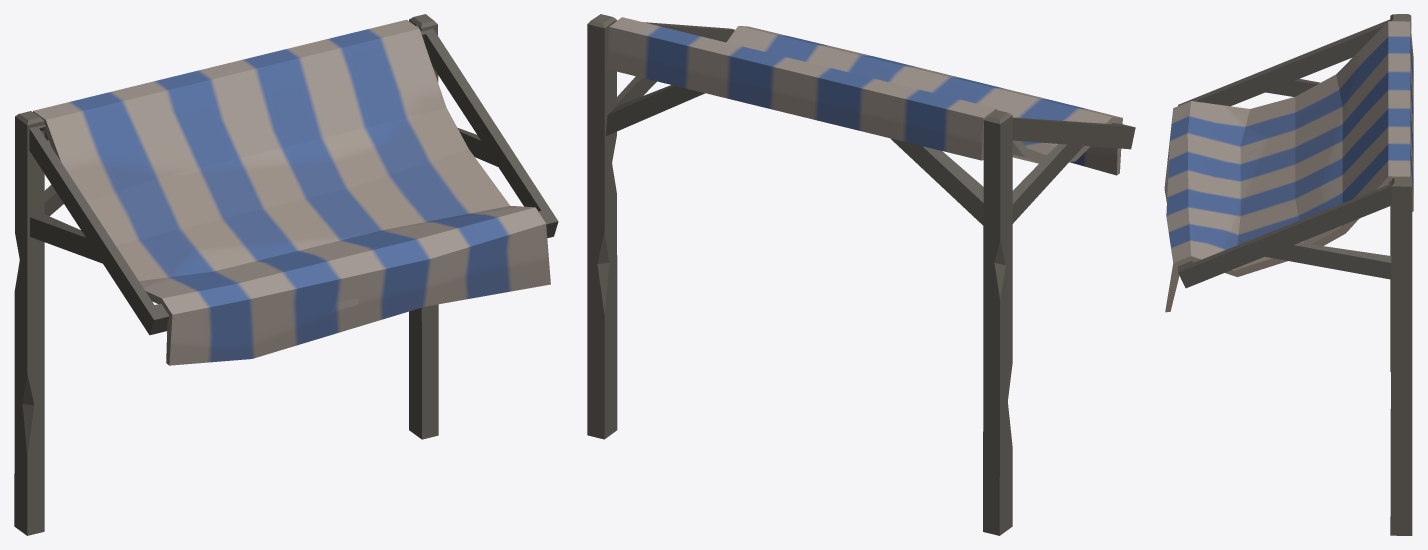
The model's file is SM_Bld_Village_ClothCover_Slope_01.fbx.
3 renders of one model, left to right at view 1: azimuth 30°, elevation 25°; view 2: azimuth 150°, elevation 25°; view 3: azimuth 270°, elevation 25°, orthographic. The views are drawn at different scales.
Visible parts, largest first — view 1: SM_Bld_Village_ClothCover_Slope_01; view 2: SM_Bld_Village_ClothCover_Slope_01; view 3: SM_Bld_Village_ClothCover_Slope_01.
Boxes of the visible parts, x1,y1,x2,y2 form: SM_Bld_Village_ClothCover_Slope_01: [14, 14, 558, 535]; SM_Bld_Village_ClothCover_Slope_01: [587, 14, 1135, 535]; SM_Bld_Village_ClothCover_Slope_01: [1164, 14, 1413, 535].
Size of the model in its own units: 363 by 349 by 223.
